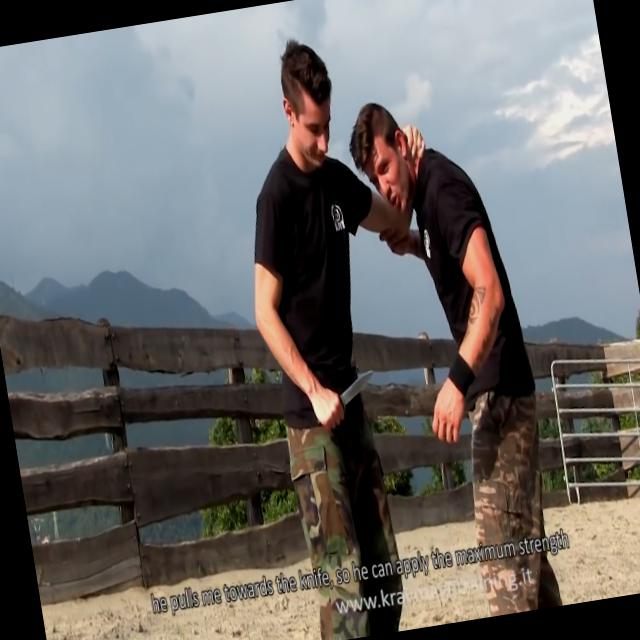knife: (308, 361, 387, 436)
